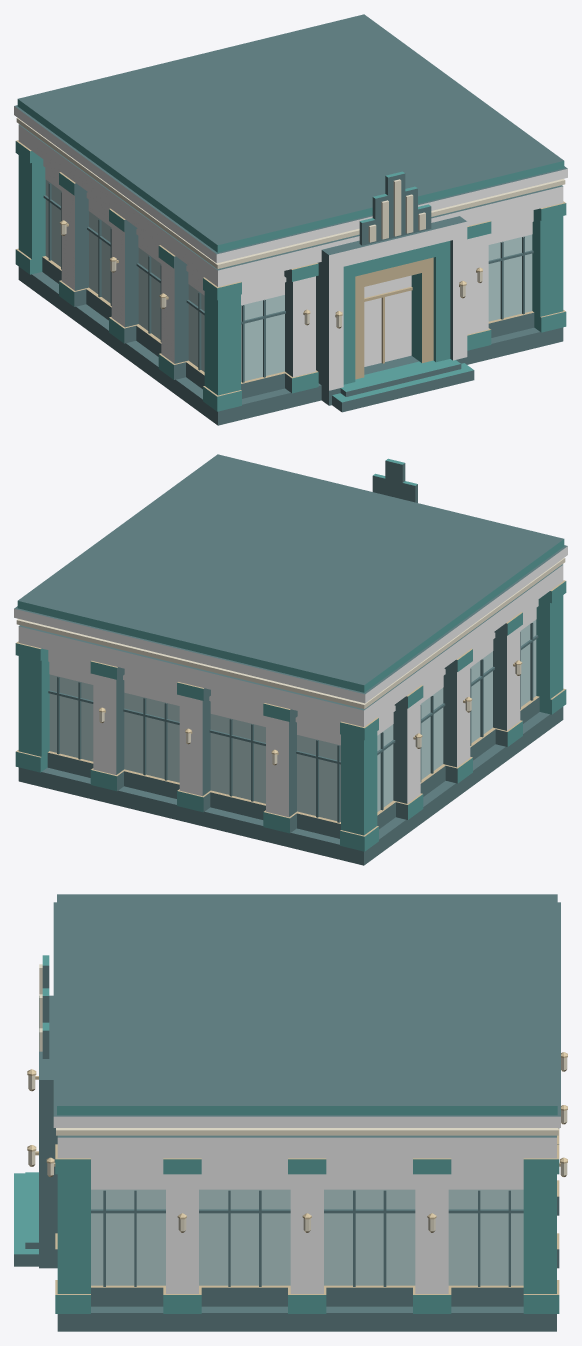
File: KC32__AD_Ext_Bldg_Base_Red.glb
3 views of the same model, one above another, from view 1: azimuth 30°, elevation 25°; view 2: azimuth 150°, elevation 25°; view 3: azimuth 270°, elevation 25° (orthographic). The views are drawn at different scales.
Visible parts, largest first — view 1: KC32_CORPS__AD_Ext_Bldg_Base_Red, KC32_ACCENT__AD_Ext_Bldg_Base_Red, KC32_VITRAGE__AD_Ext_Bldg_Base_Red, KC32_BRONZE__AD_Ext_Bldg_Base_Red, KC32_LUMIERE__AD_Ext_Bldg_Base_Red; view 2: KC32_CORPS__AD_Ext_Bldg_Base_Red, KC32_ACCENT__AD_Ext_Bldg_Base_Red, KC32_VITRAGE__AD_Ext_Bldg_Base_Red, KC32_LUMIERE__AD_Ext_Bldg_Base_Red, KC32_BRONZE__AD_Ext_Bldg_Base_Red; view 3: KC32_CORPS__AD_Ext_Bldg_Base_Red, KC32_ACCENT__AD_Ext_Bldg_Base_Red, KC32_VITRAGE__AD_Ext_Bldg_Base_Red, KC32_LUMIERE__AD_Ext_Bldg_Base_Red, KC32_BRONZE__AD_Ext_Bldg_Base_Red.
Boxes of the visible parts, x1,y1,x2,y2 form: KC32_CORPS__AD_Ext_Bldg_Base_Red: [14, 14, 567, 425]; KC32_ACCENT__AD_Ext_Bldg_Base_Red: [14, 106, 567, 390]; KC32_VITRAGE__AD_Ext_Bldg_Base_Red: [45, 180, 532, 381]; KC32_BRONZE__AD_Ext_Bldg_Base_Red: [16, 140, 565, 396]; KC32_LUMIERE__AD_Ext_Bldg_Base_Red: [16, 118, 565, 327]; KC32_CORPS__AD_Ext_Bldg_Base_Red: [14, 454, 567, 865]; KC32_ACCENT__AD_Ext_Bldg_Base_Red: [14, 546, 567, 817]; KC32_VITRAGE__AD_Ext_Bldg_Base_Red: [49, 620, 536, 821]; KC32_LUMIERE__AD_Ext_Bldg_Base_Red: [16, 558, 565, 763]; KC32_BRONZE__AD_Ext_Bldg_Base_Red: [16, 580, 565, 836]; KC32_CORPS__AD_Ext_Bldg_Base_Red: [14, 894, 560, 1331]; KC32_ACCENT__AD_Ext_Bldg_Base_Red: [53, 1116, 560, 1293]; KC32_VITRAGE__AD_Ext_Bldg_Base_Red: [91, 1189, 523, 1285]; KC32_LUMIERE__AD_Ext_Bldg_Base_Red: [28, 964, 567, 1231]; KC32_BRONZE__AD_Ext_Bldg_Base_Red: [27, 1052, 567, 1294].
Size of the model in its own units: 12.53 by 7.05 by 13.32.
